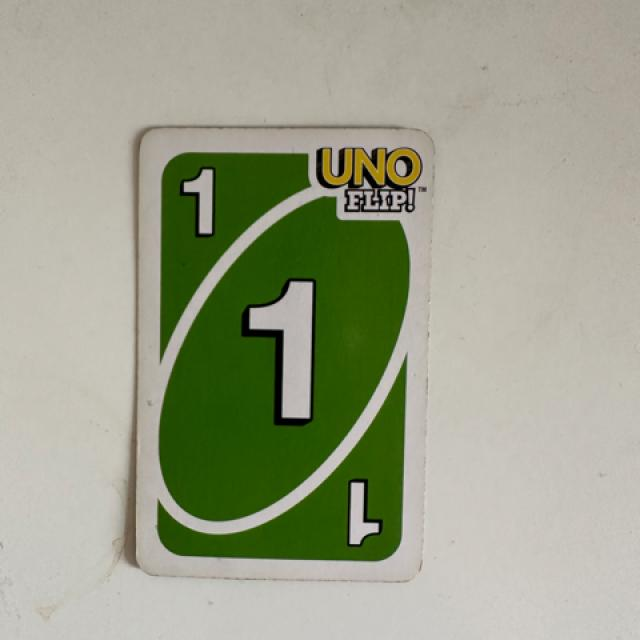lgreen-1: (150, 144, 252, 265)
